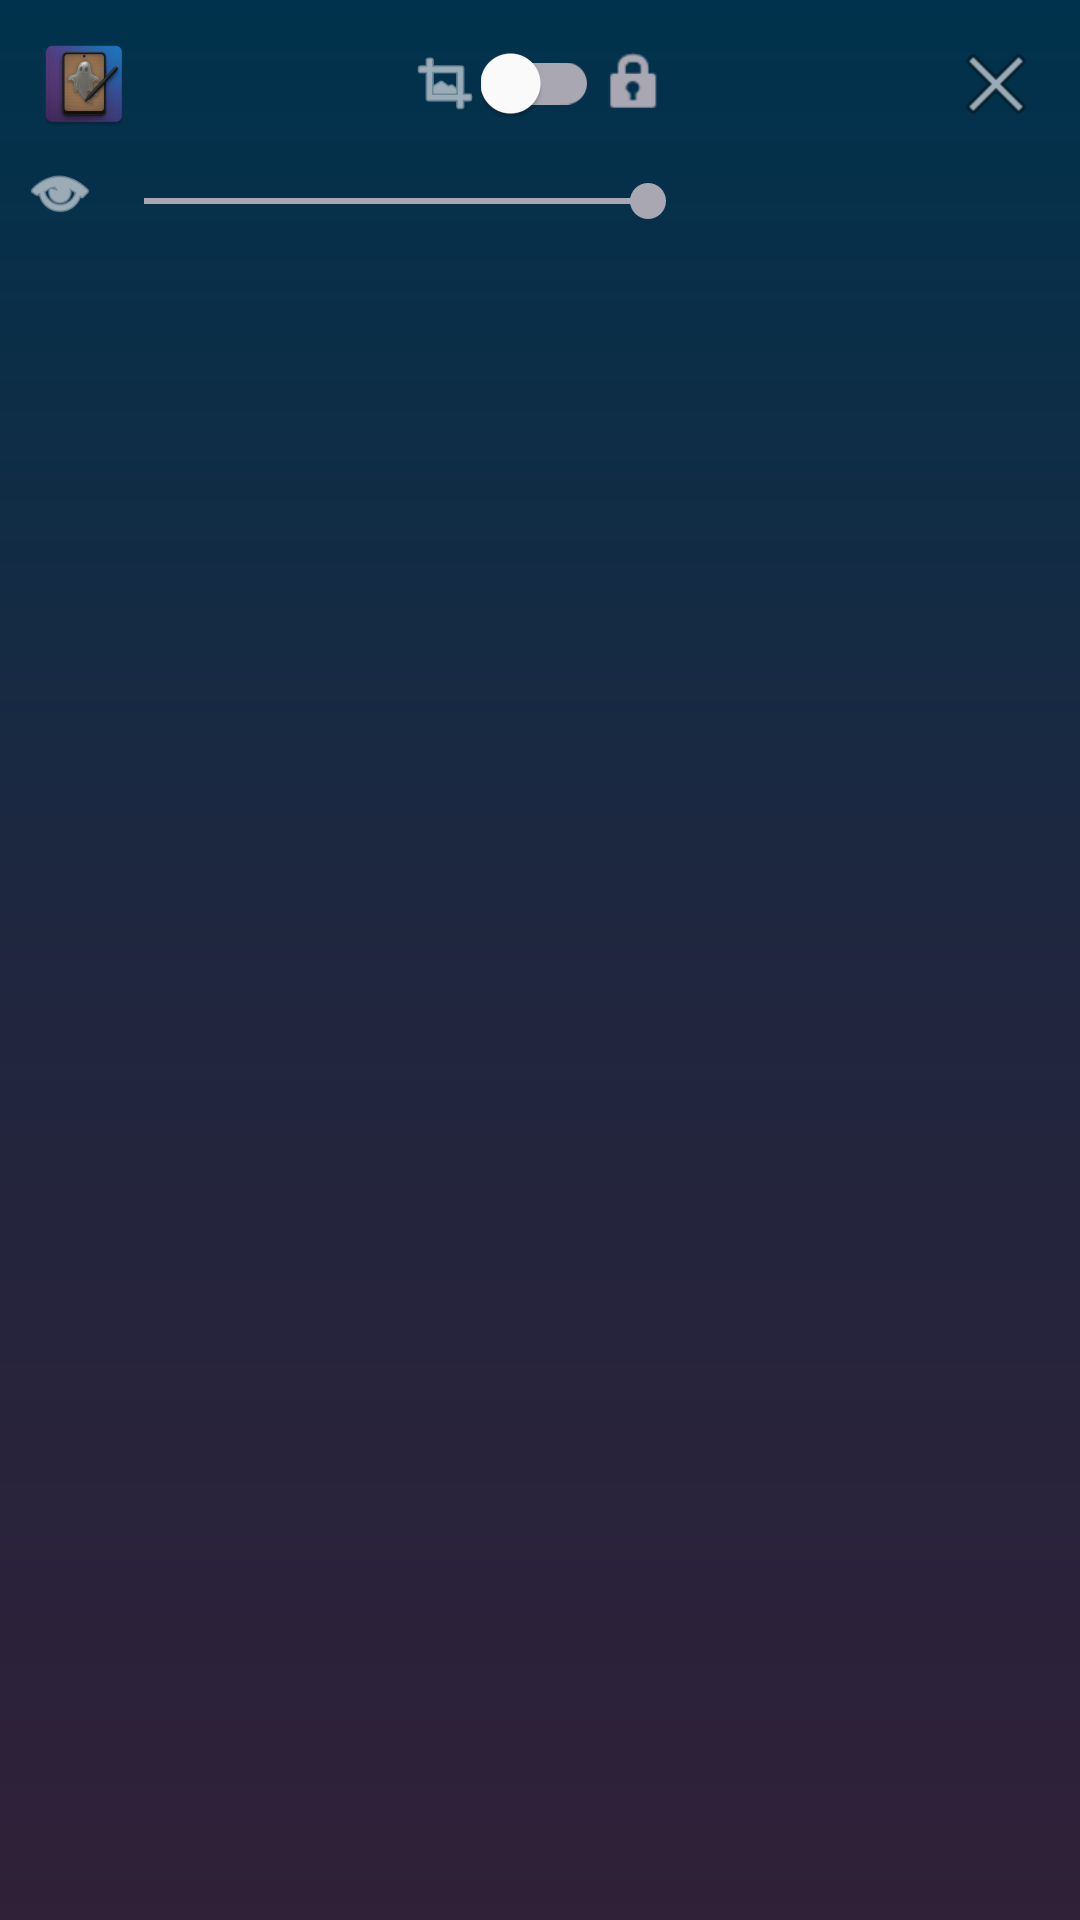

Where to tap for icons on this 1080*1920 app screen, as (x=x, y=y):
close clear cancel: (x=996, y=84)
Crop: (x=445, y=83)
Lock: (x=633, y=80)
Opacity: (x=60, y=193)
